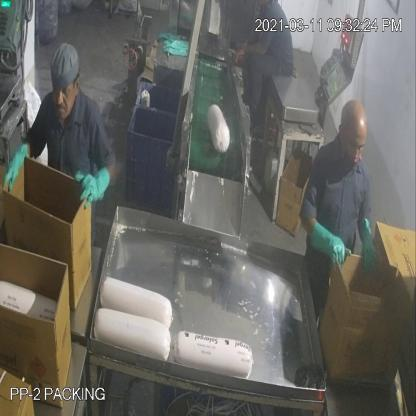glove: (307, 208, 353, 274), (356, 205, 386, 280), (76, 153, 113, 212), (4, 136, 34, 195)
no_glove: (232, 32, 272, 73)
